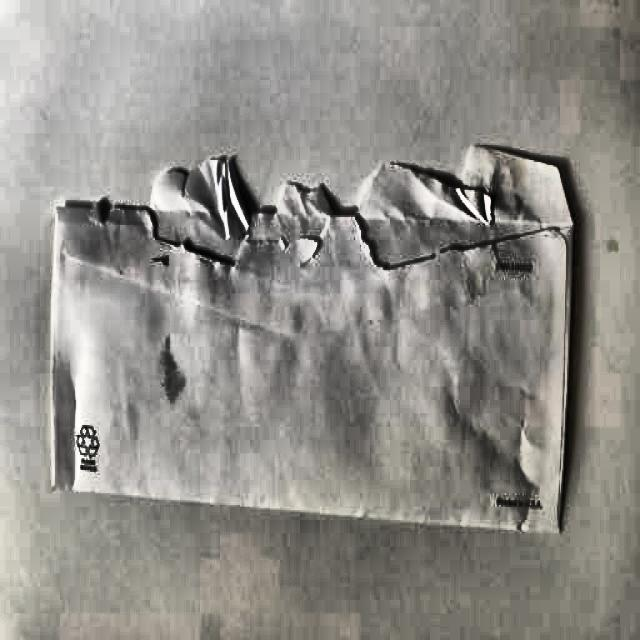paper: (48, 142, 577, 558)
